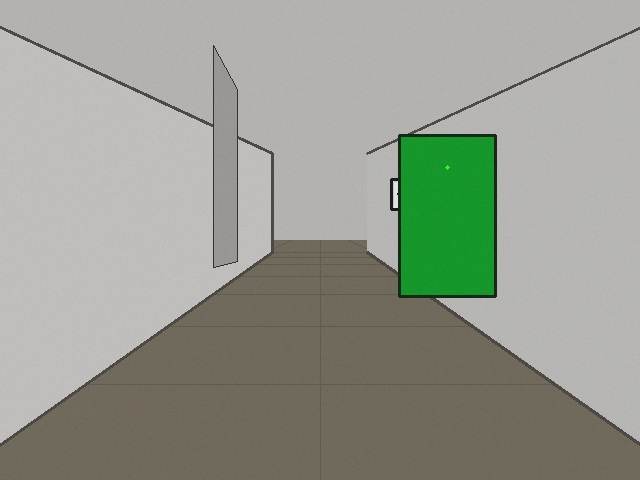charging_station: (399, 135, 495, 296)
directional_sign: (391, 175, 451, 209)
